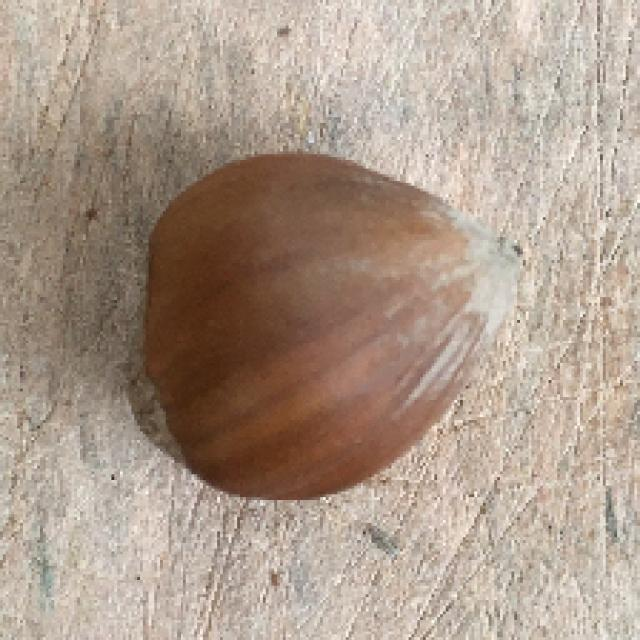qualityHazelnut: (114, 143, 524, 507)
